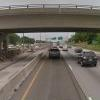Bridge: (2, 1, 95, 39)
